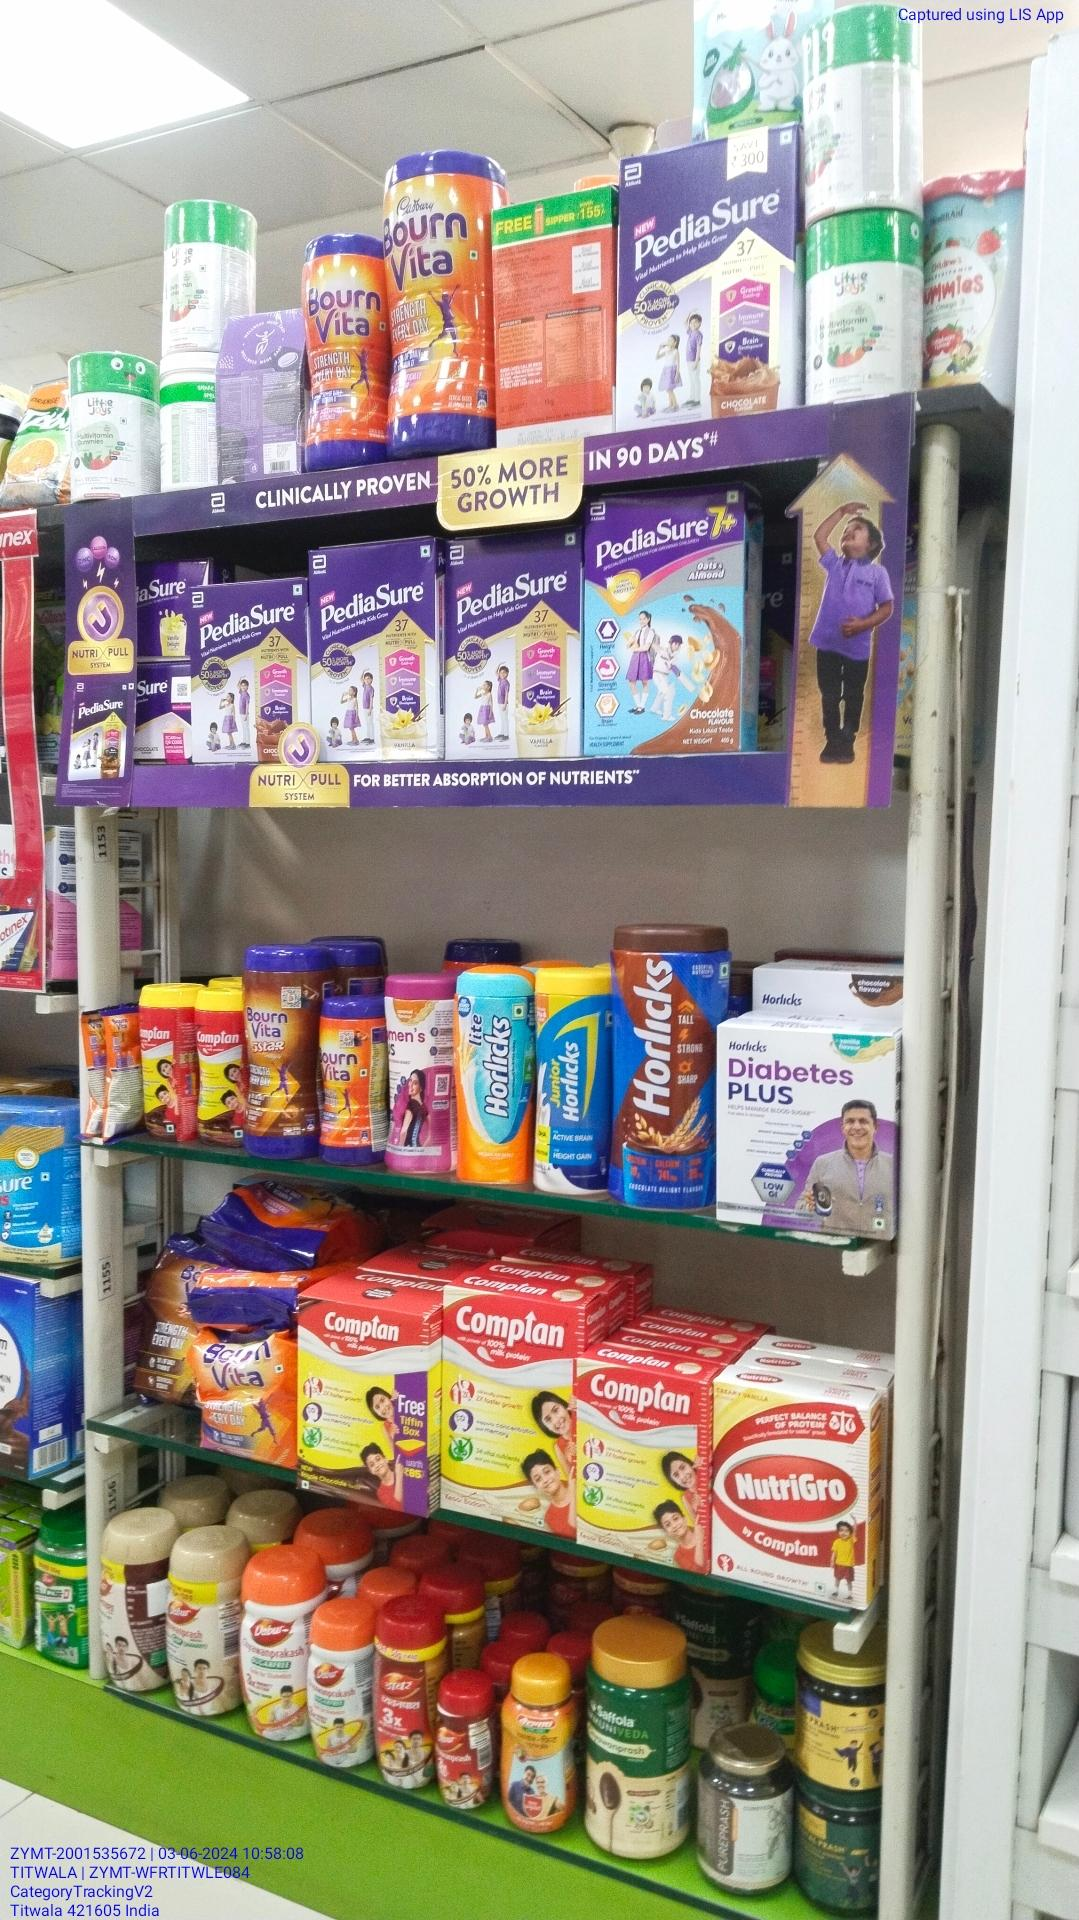BOURN_VITA_FIVE_STAR_MAGIC_500_G_JAR: (240, 942, 321, 1160)
COMPLAN_CHOCOLATE_200_GMS_JAR: (137, 986, 187, 1139), (194, 990, 236, 1141)
HORLICKS_JUNIOR_VANILLA_500_GM_JAR: (536, 967, 615, 1191)
HORLICKS_LITE_REGULAR_MALT_500_GM_JAR: (455, 965, 529, 1188)
PEDIASURE_CHOCOLATE_500_G_PACK: (612, 124, 799, 419), (185, 572, 306, 765)
PEDIASURE_VANILLA_500_G_PACK: (446, 529, 582, 761), (314, 529, 434, 762)
